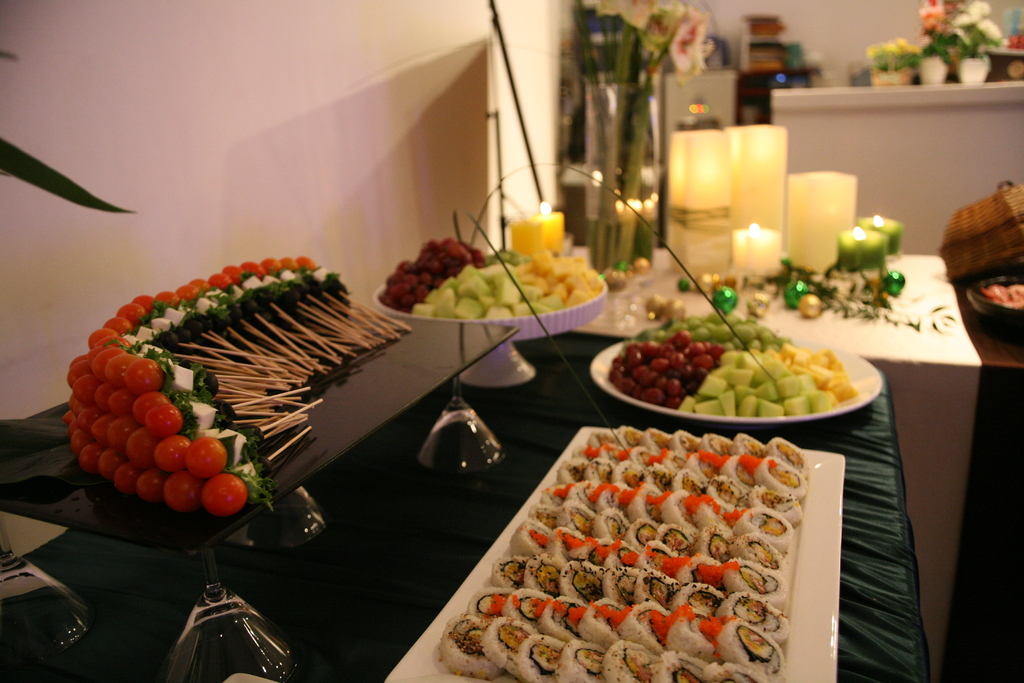sushi: (442, 425, 829, 672)
